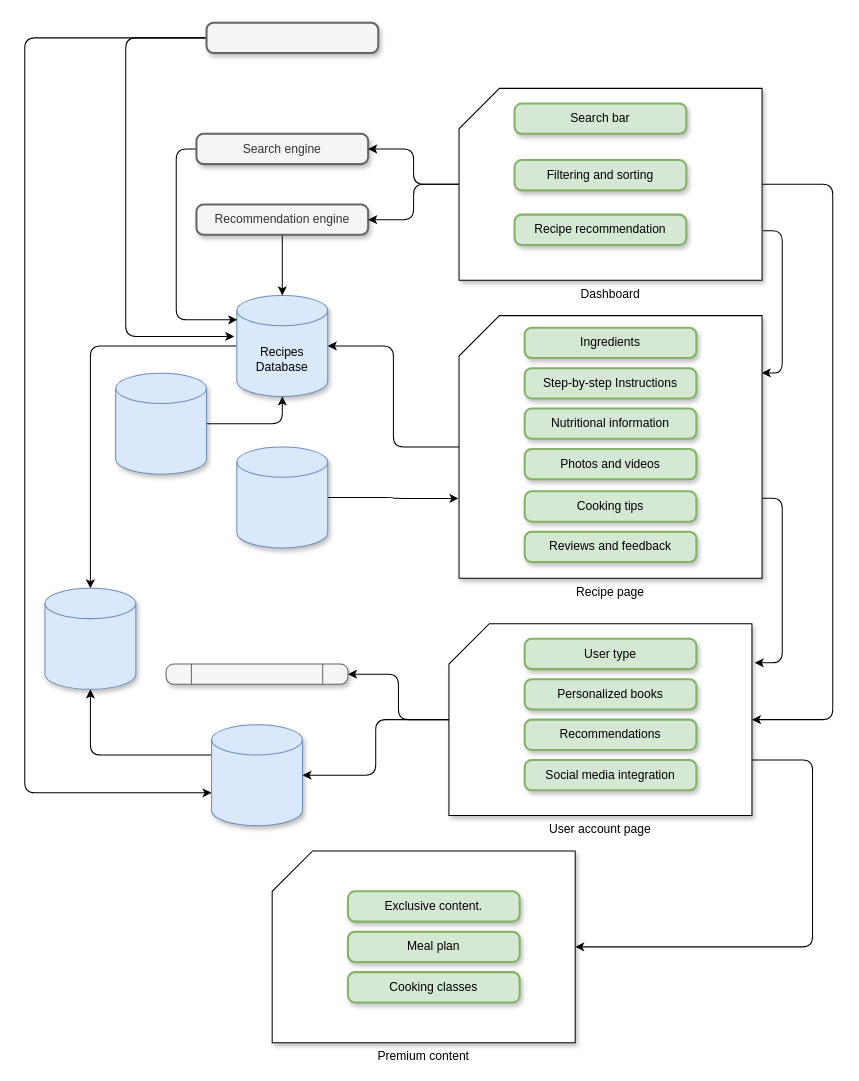
This 859x1081 diagram has some shape labels left out. The shapes that lost their labels are listed below. From the top down, each one's centre as x and y in pixels, then its label:
At point 293,39: "Data statistics analysis".
At point 162,424: "Indredient and nutrition database".
At point 283,498: "Cooking tips Database".
At point 91,639: "Recipe Books Database".
At point 257,675: "Social media access".
At point 258,776: "User Database".
